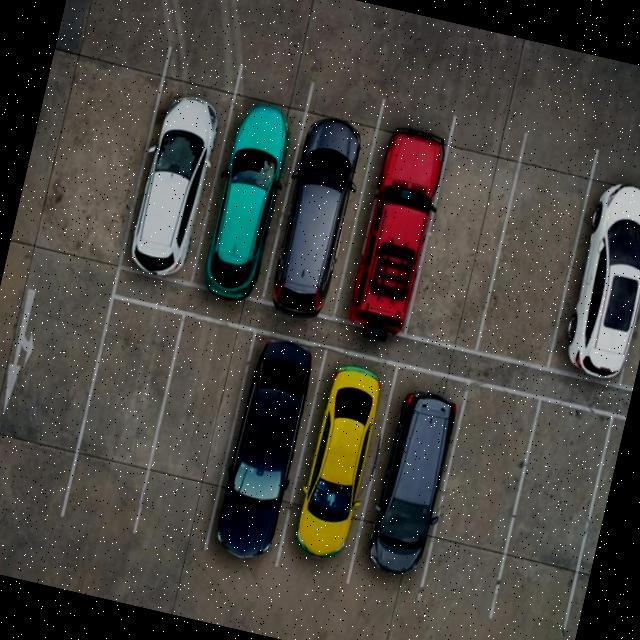space-empty: (403, 122, 528, 352), (418, 384, 542, 614), (134, 316, 254, 552), (490, 402, 612, 630), (480, 137, 600, 366), (64, 306, 182, 530)
space-occupied: (349, 366, 471, 602), (204, 329, 330, 556), (116, 47, 240, 276), (194, 67, 316, 290), (270, 83, 386, 313), (282, 352, 400, 576), (333, 108, 452, 330), (551, 151, 640, 377)
